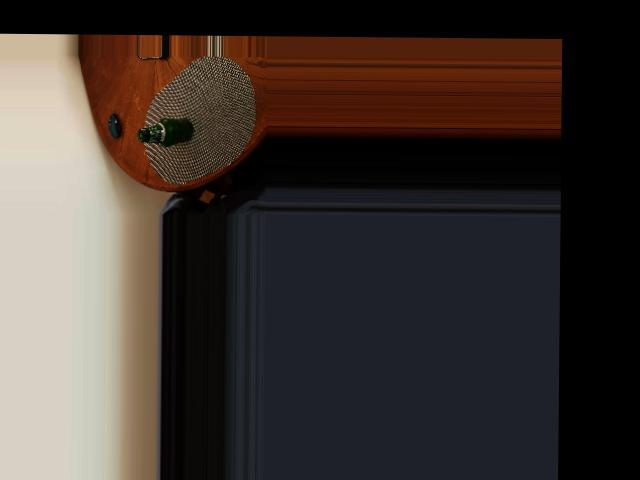beer: (137, 116, 193, 148)
